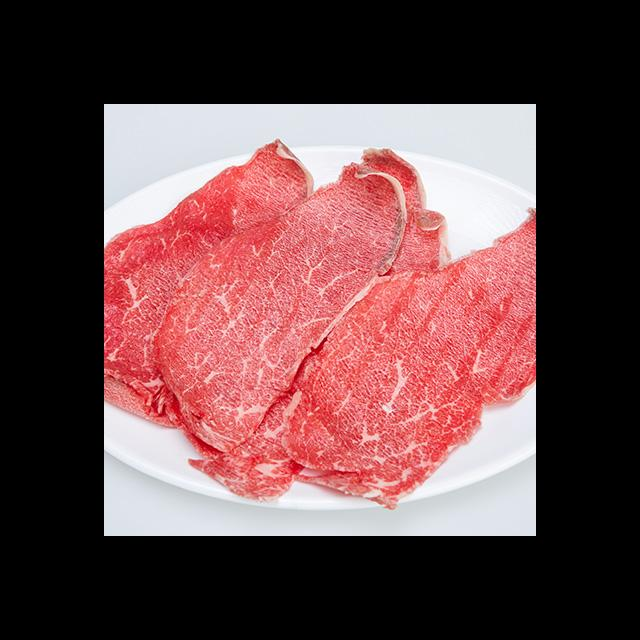beef: (304, 198, 452, 453), (121, 245, 318, 418)
